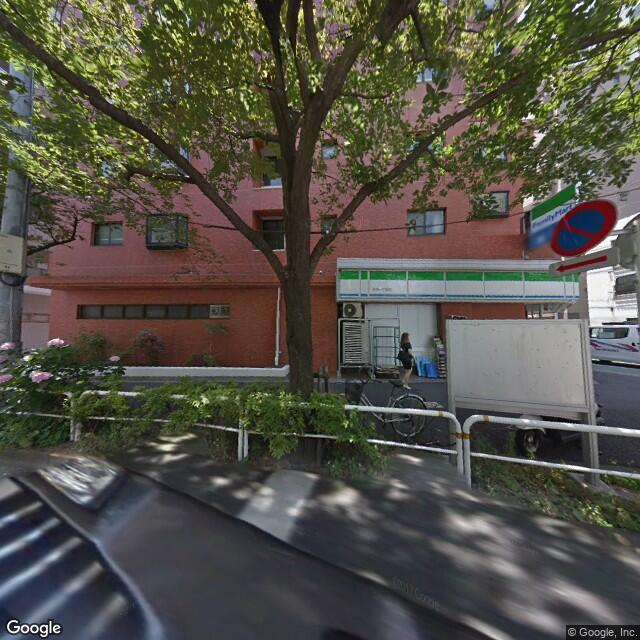family_mart: (337, 261, 583, 305), (527, 183, 578, 229)
